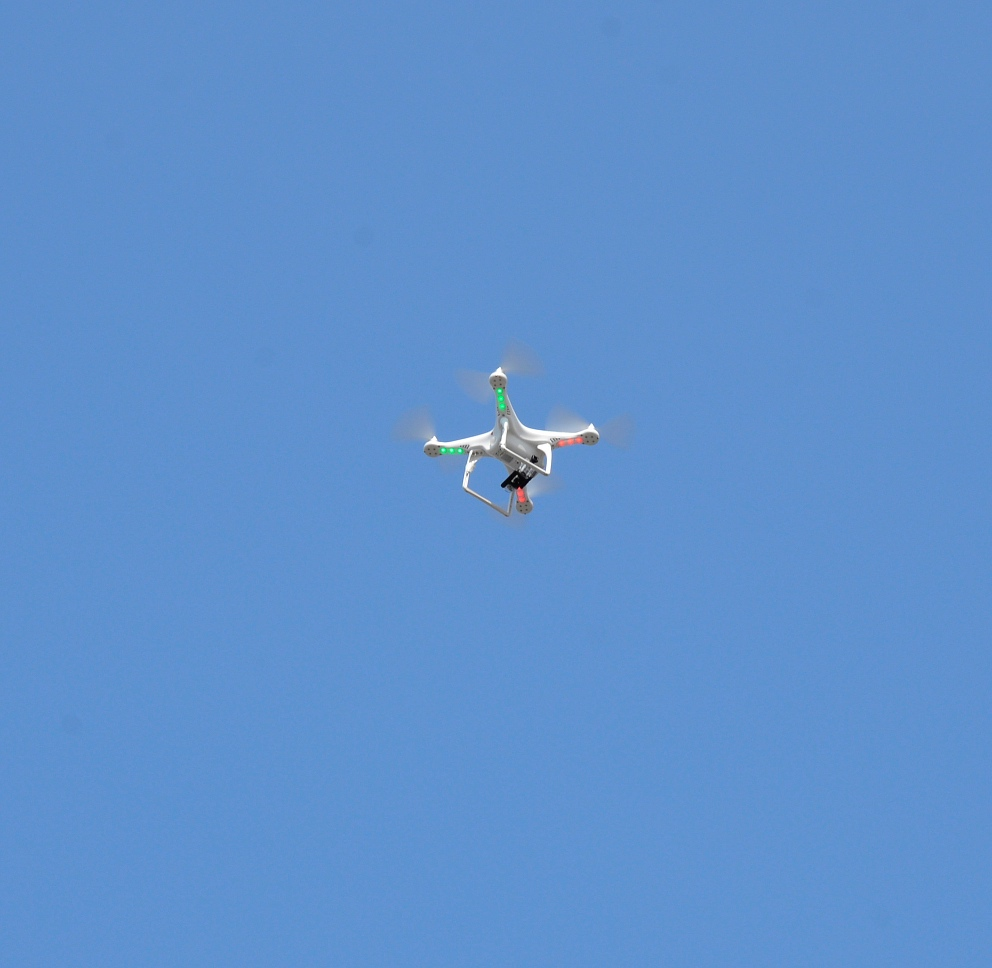drone: (387, 342, 650, 530)
